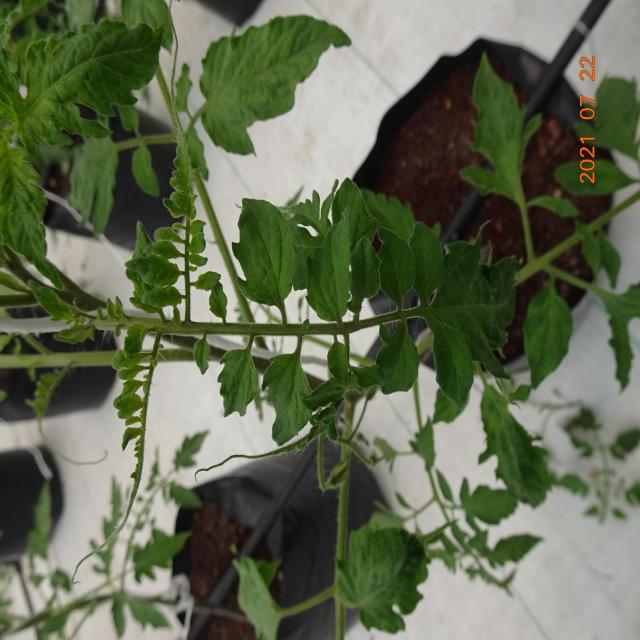T_L_H: (234, 199, 297, 321)
T_L_R: (25, 21, 162, 146), (1, 141, 62, 289), (307, 209, 352, 324), (219, 338, 259, 418)
